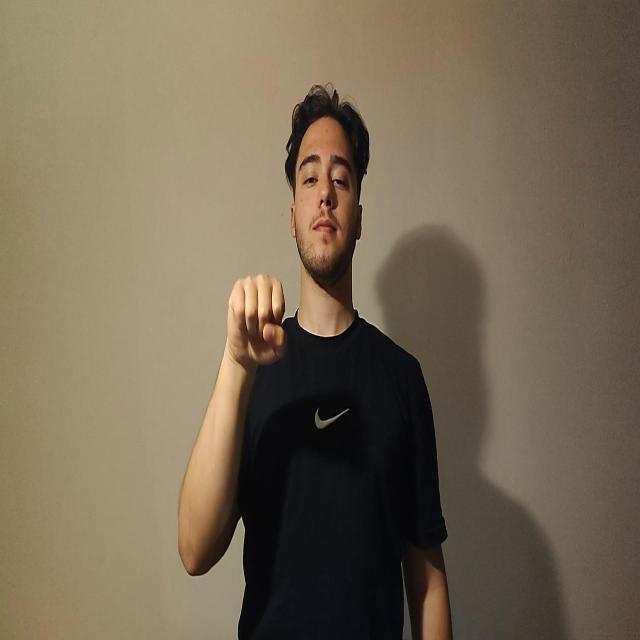yes: (226, 272, 288, 373)
